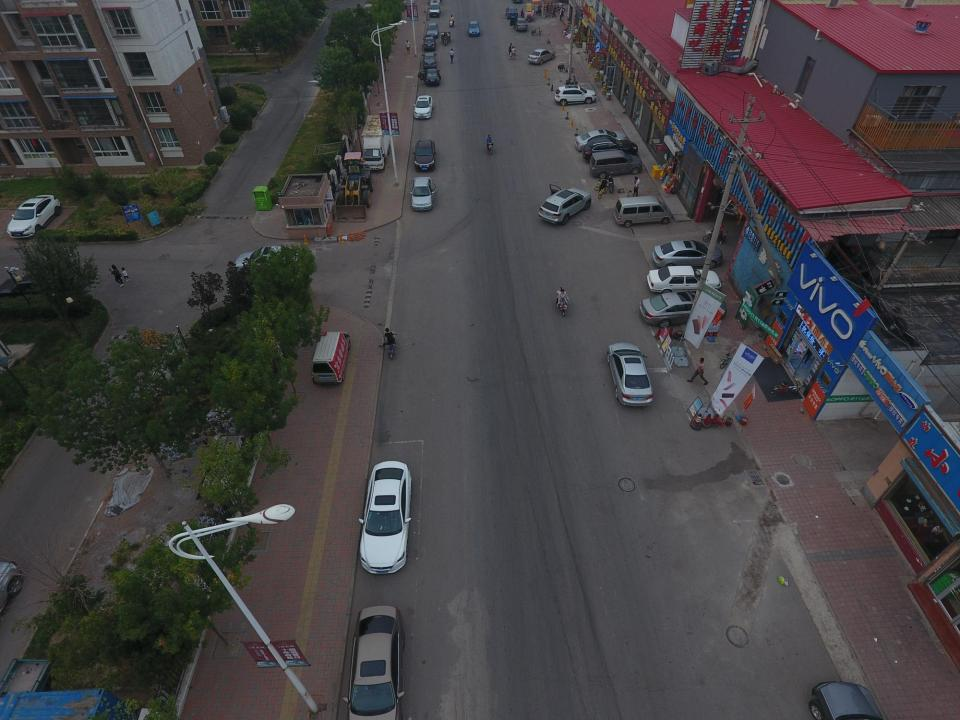car: (342, 605, 405, 720), (358, 461, 412, 574), (640, 292, 728, 327), (607, 342, 654, 407), (232, 245, 306, 280), (6, 195, 61, 238), (646, 266, 722, 296), (653, 240, 722, 271), (539, 184, 591, 225), (582, 136, 638, 163), (575, 130, 629, 152), (409, 176, 437, 210), (554, 86, 596, 106), (413, 140, 436, 172), (413, 95, 433, 119), (527, 48, 555, 64), (418, 68, 441, 86), (421, 52, 438, 68), (510, 17, 528, 31), (422, 36, 436, 51), (426, 22, 439, 38), (468, 21, 480, 36), (505, 6, 518, 19)
truck: (360, 115, 392, 170), (429, 2, 441, 17)
van: (311, 330, 351, 384), (613, 196, 671, 227), (589, 150, 643, 180), (363, 3, 390, 19)
